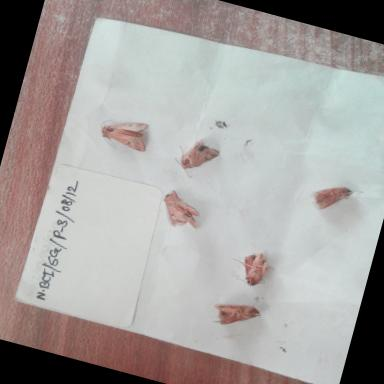abw: (140, 180, 216, 242), (162, 127, 233, 192), (216, 236, 286, 300), (88, 104, 160, 166), (198, 286, 270, 342), (296, 168, 362, 224)
